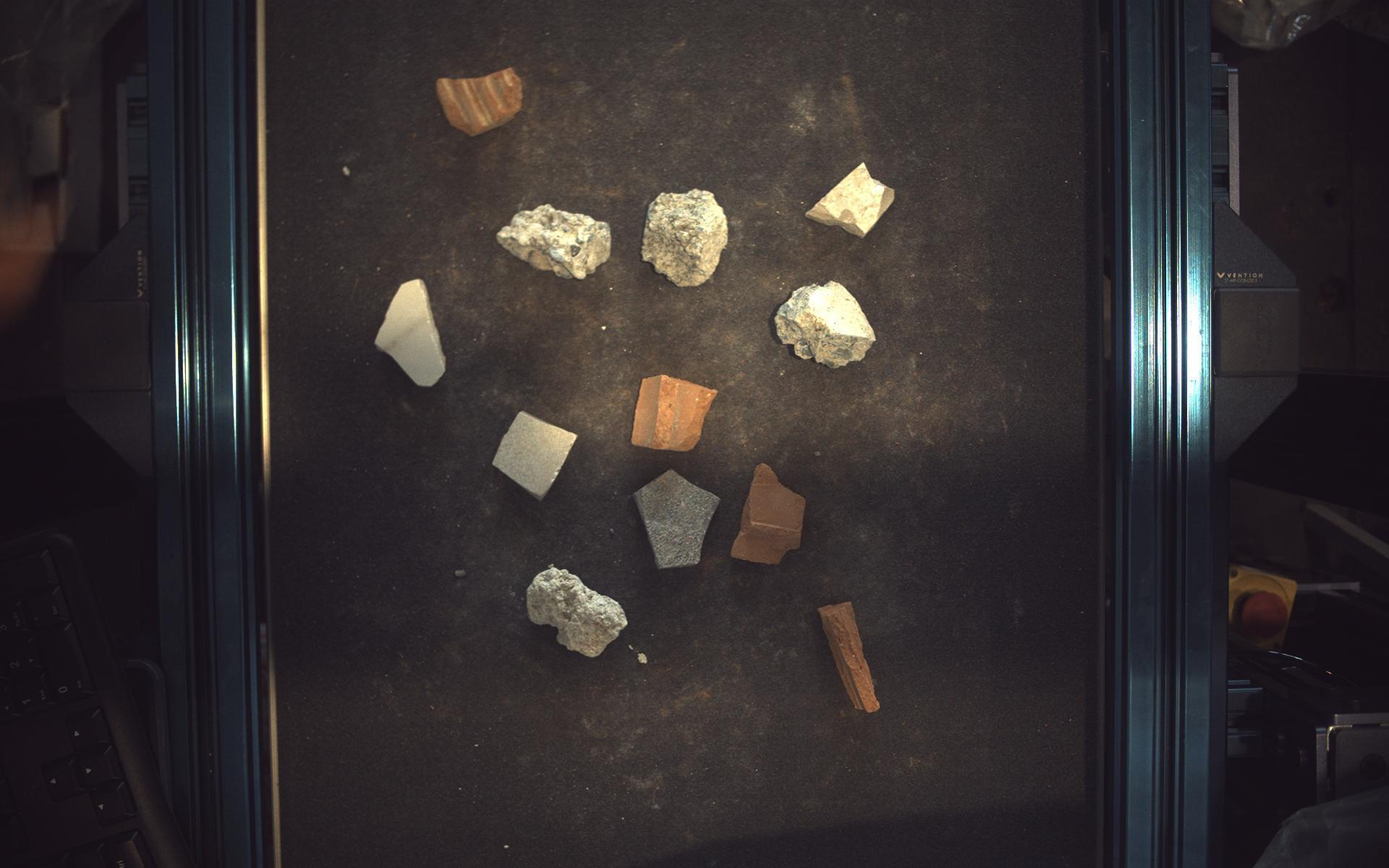brick: (732, 464, 807, 565), (820, 603, 881, 714), (632, 375, 718, 451), (436, 67, 523, 135)
concrete: (527, 566, 627, 658), (776, 280, 878, 368), (497, 203, 612, 278), (642, 188, 729, 286)
tile: (634, 470, 721, 569), (375, 278, 446, 387), (493, 412, 578, 500), (807, 163, 896, 237)
